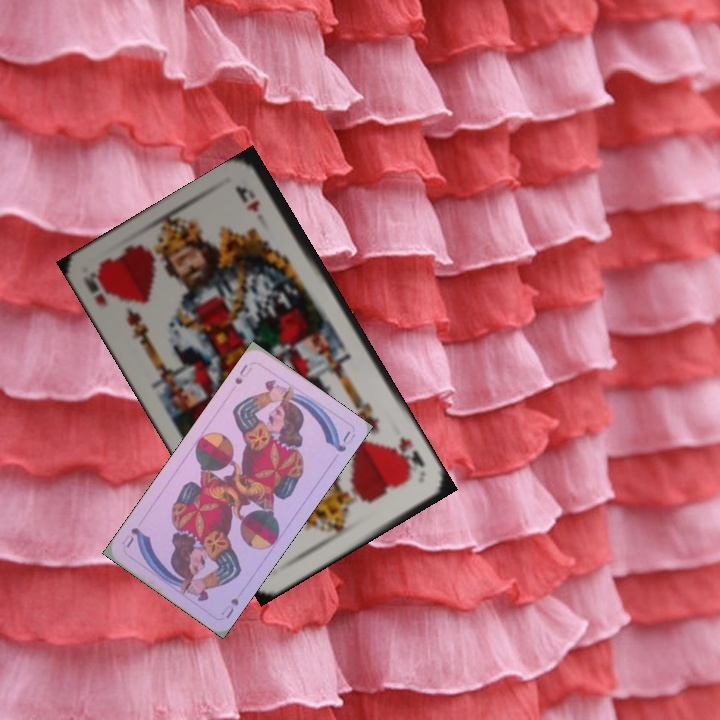HK: (390, 432, 428, 481), (79, 267, 116, 309)
SU: (217, 594, 241, 621), (231, 360, 255, 387)
